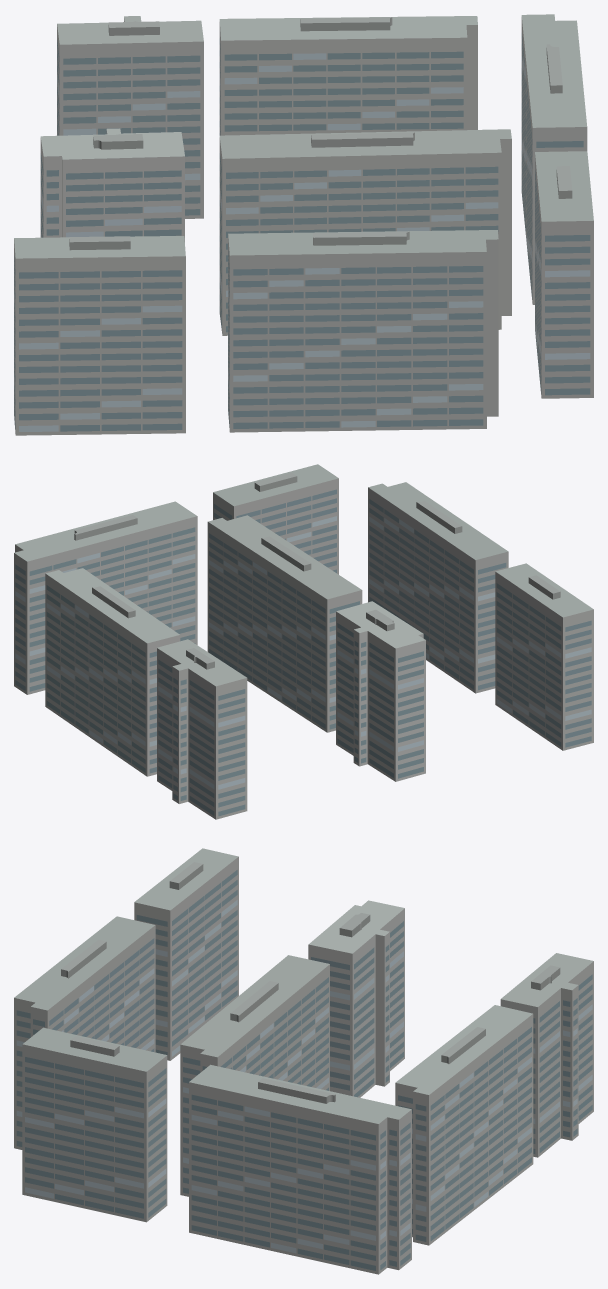
File: apt-a15776715.glb
The picture shows the model from 3 angles, top to bottom: view 1: azimuth 30°, elevation 25°; view 2: azimuth 150°, elevation 25°; view 3: azimuth 270°, elevation 25°; orthographic projection. The views are drawn at different scales.
Visible parts, largest first — view 1: apt-a15776715; view 2: apt-a15776715; view 3: apt-a15776715.
Boxes of the visible parts, x1,y1,x2,y2 form: apt-a15776715: (14, 14, 593, 435); apt-a15776715: (14, 464, 593, 819); apt-a15776715: (14, 848, 593, 1274).
Size of the model in its own units: 180 by 47.81 by 160.
